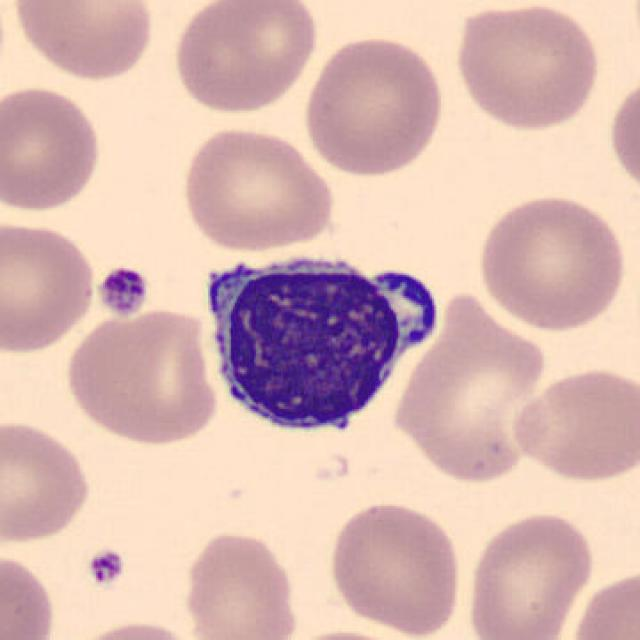Lymphocyte: (194, 238, 452, 444)
Platelets: (94, 263, 151, 319), (84, 545, 128, 589)
RBC: (389, 287, 553, 488), (61, 305, 222, 448), (473, 189, 631, 333), (298, 32, 449, 178), (178, 123, 338, 254), (450, 0, 604, 132), (324, 496, 466, 636), (462, 506, 598, 638), (169, 0, 322, 116), (506, 363, 636, 485), (0, 81, 105, 215), (0, 217, 100, 354), (180, 527, 300, 640), (7, 0, 158, 83), (0, 416, 94, 547), (565, 564, 640, 640), (0, 548, 60, 639), (604, 69, 640, 201), (62, 617, 203, 640)
